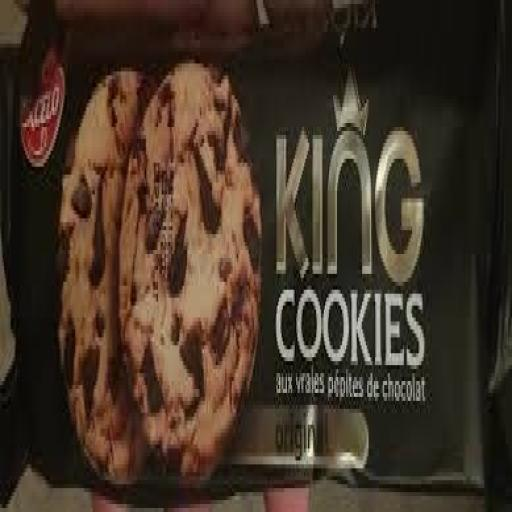king-cooking: (11, 15, 512, 493)
